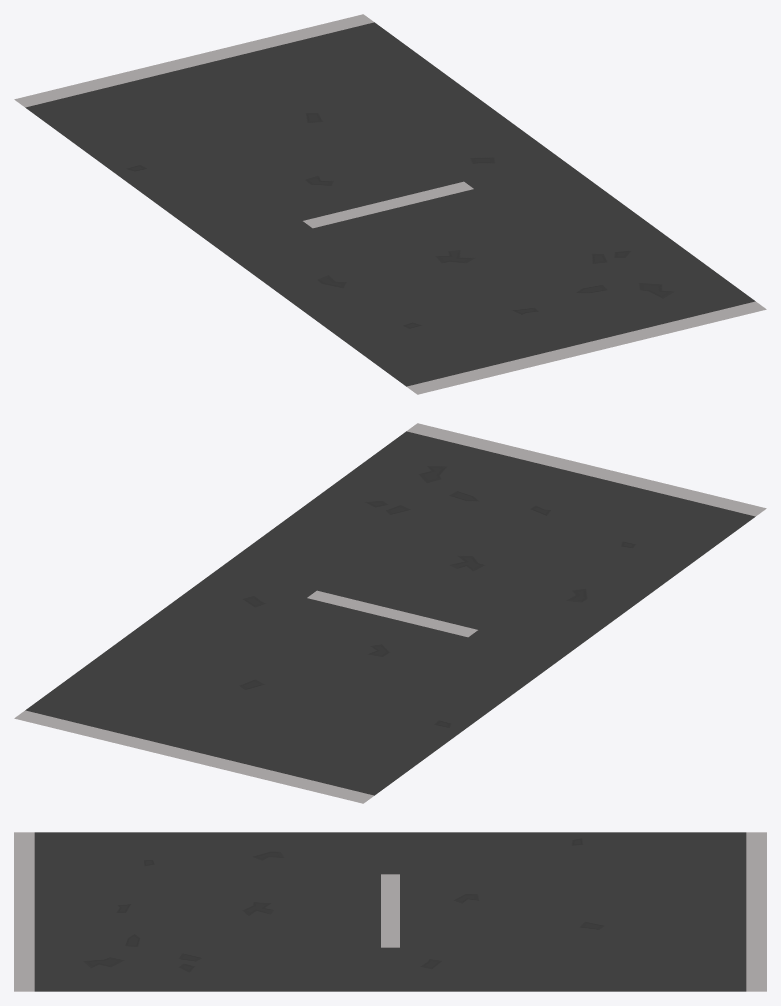
File: SM_Gen_Env_Road_Half_01.glb
The picture shows the model from 3 angles, top to bottom: view 1: azimuth 30°, elevation 25°; view 2: azimuth 150°, elevation 25°; view 3: azimuth 270°, elevation 25°; orthographic projection. The views are drawn at different scales.
Parts seen in each view (by area): view 1: SM_Gen_Env_Road_Half_012; view 2: SM_Gen_Env_Road_Half_012; view 3: SM_Gen_Env_Road_Half_012.
Boxes of the visible parts, box(x1,y1,x2,y2) form: SM_Gen_Env_Road_Half_012: box(14, 14, 766, 394); SM_Gen_Env_Road_Half_012: box(14, 423, 766, 803); SM_Gen_Env_Road_Half_012: box(14, 832, 766, 991).
Bounding box in the file's own units: 5 × 1.07e-19 × 10.
Materials: 1 (1 with a texture image).
